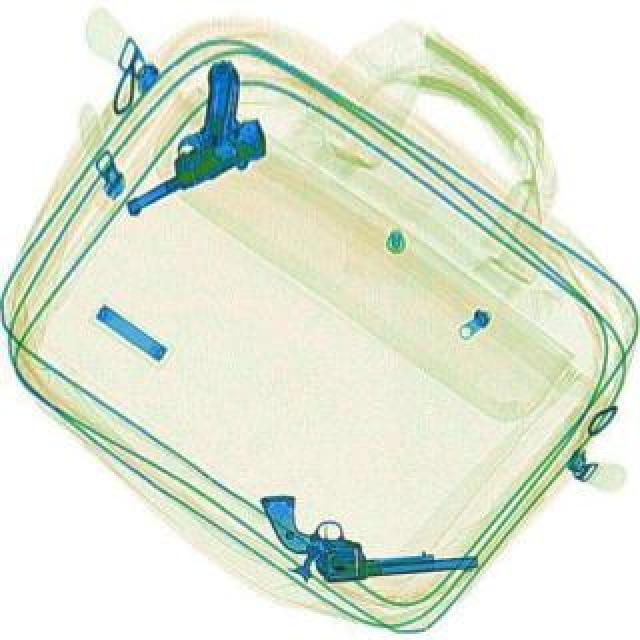gun: (82, 56, 282, 220), (260, 474, 476, 588)
